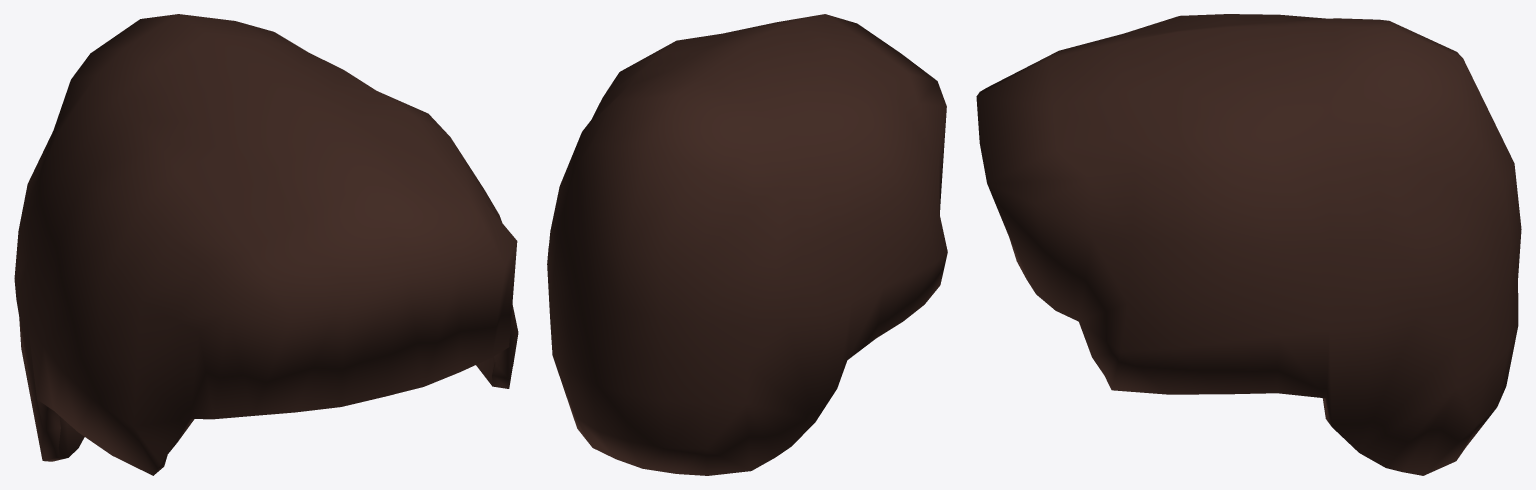
File: Hair04.fbx
3 renders of one model, left to right at view 1: azimuth 30°, elevation 25°; view 2: azimuth 150°, elevation 25°; view 3: azimuth 270°, elevation 25°, orthographic. The views are drawn at different scales.
Visible parts, largest first — view 1: Hair04; view 2: Hair04; view 3: Hair04.
Part boxes in pixels (x1,y1,x2,y2): Hair04: (14,14,518,475); Hair04: (547,14,947,475); Hair04: (976,14,1521,475).
Size of the model in its own units: 27.23 by 27.68 by 33.85.
